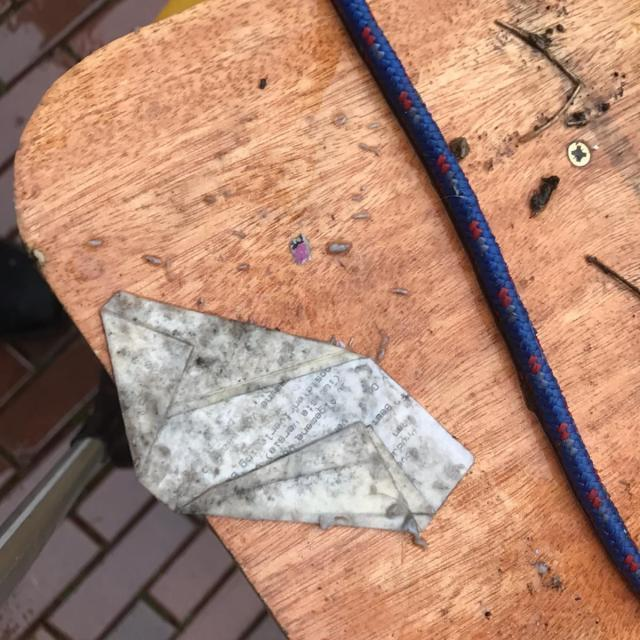Paper: (95, 286, 478, 540)
